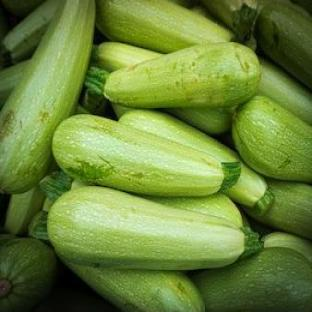Zucchini: (48, 186, 260, 269), (119, 110, 273, 213), (53, 116, 239, 196), (85, 42, 260, 107), (61, 257, 204, 311), (193, 249, 311, 310), (232, 96, 311, 182), (256, 3, 311, 88), (0, 239, 57, 311), (245, 179, 311, 239), (258, 58, 311, 124), (145, 194, 242, 227), (93, 42, 162, 71), (96, 42, 162, 71), (5, 186, 44, 235), (167, 108, 232, 134), (263, 232, 311, 261), (0, 62, 29, 109), (40, 171, 72, 202), (192, 4, 224, 26), (80, 89, 106, 115), (28, 212, 48, 242), (249, 218, 273, 237), (112, 105, 131, 118), (0, 233, 15, 247), (240, 209, 250, 227), (43, 197, 53, 212), (76, 105, 90, 113)
